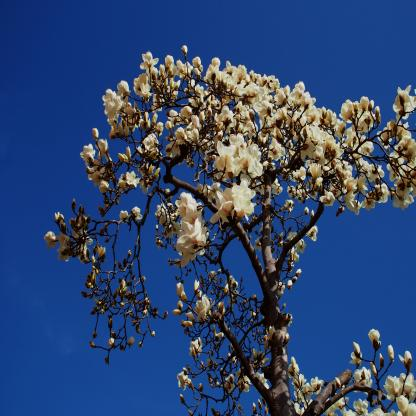Mokuren: (43, 43, 416, 416)
